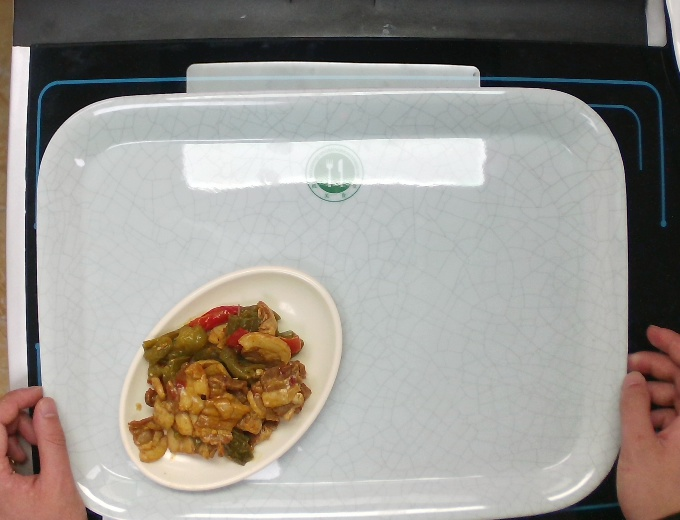JYsf-Tuo_Yuan_Wan: (114, 260, 350, 497)
